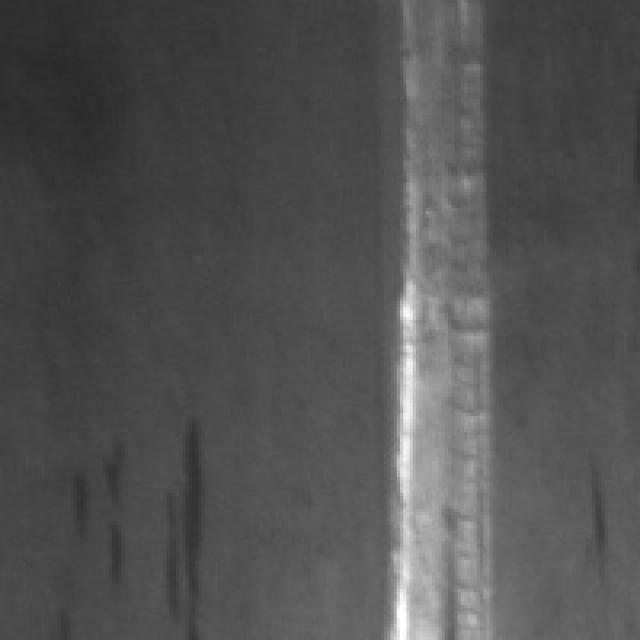inclusion: (163, 410, 218, 614), (74, 426, 134, 586), (579, 460, 621, 570)
scratches: (400, 0, 509, 634)
